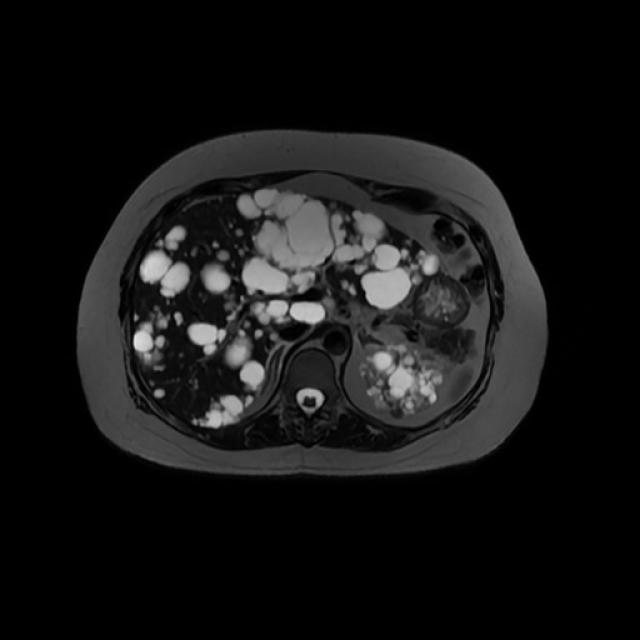sol: (365, 340, 445, 416)
